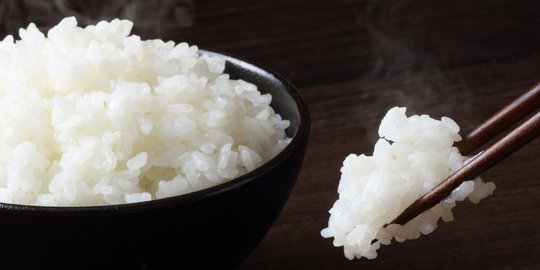Nasi Putih: (1, 43, 321, 229)
